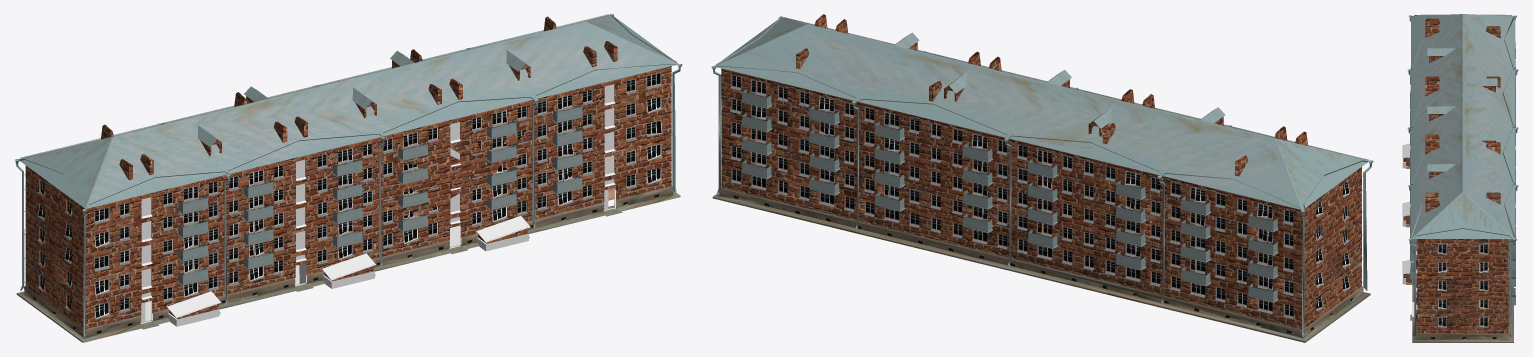
Rendered from Dornp6.fbx.
3 views of the same model, side by side, from view 1: azimuth 30°, elevation 25°; view 2: azimuth 150°, elevation 25°; view 3: azimuth 270°, elevation 25° (orthographic). The views are drawn at different scales.
Visible parts, largest first — view 1: Balkon; view 2: Balkon; view 3: Balkon.
Boxes of the visible parts, box(x1,y1,x2,y2) form: Balkon: box(15, 14, 682, 342); Balkon: box(711, 14, 1373, 342); Balkon: box(1402, 14, 1518, 342).
Size of the model in its own units: 20343 by 5439 by 4437.
10 materials, 5 textured.
